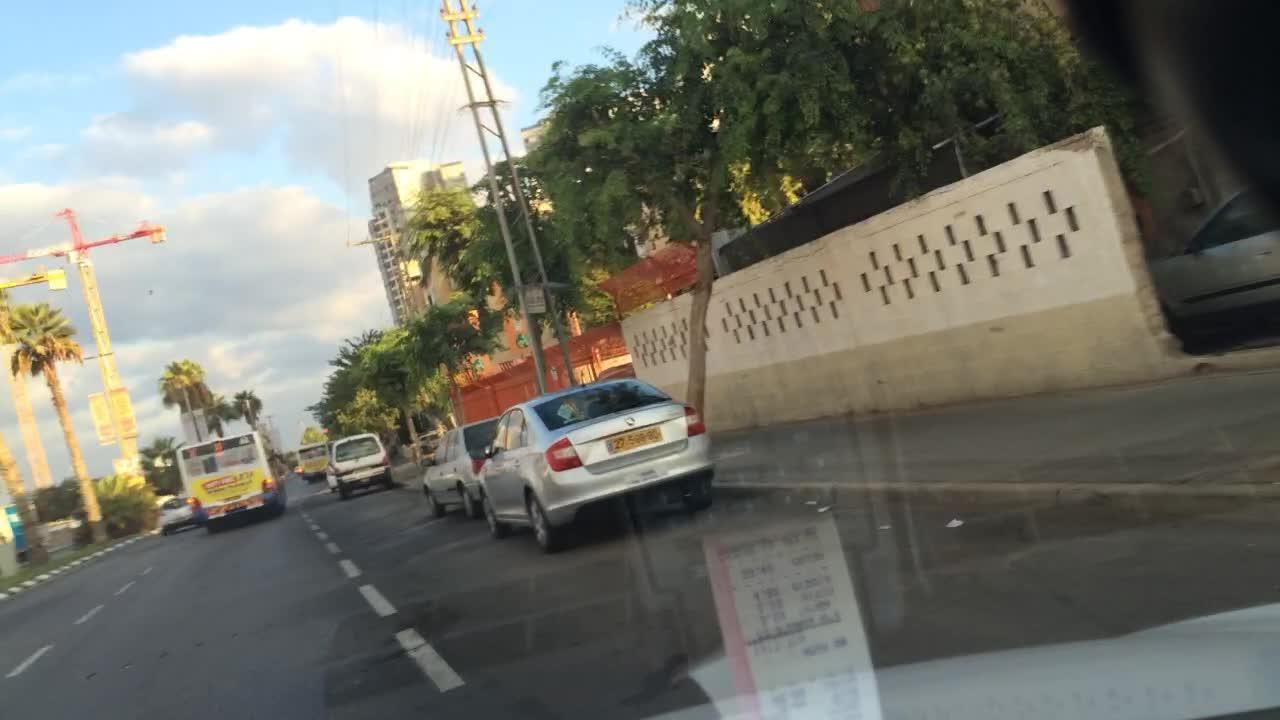skoda: (619, 413, 644, 433)
